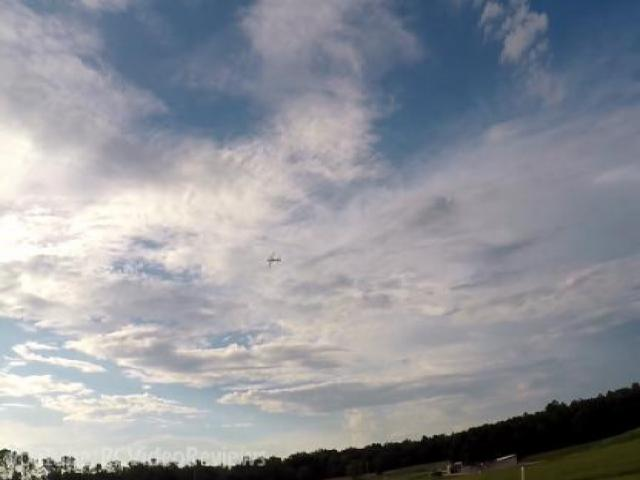uav: (259, 245, 284, 271)
